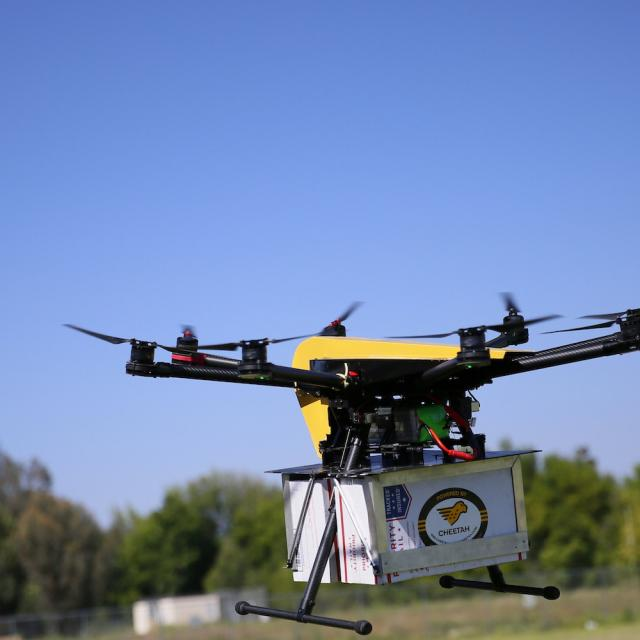drone: (41, 288, 640, 462)
